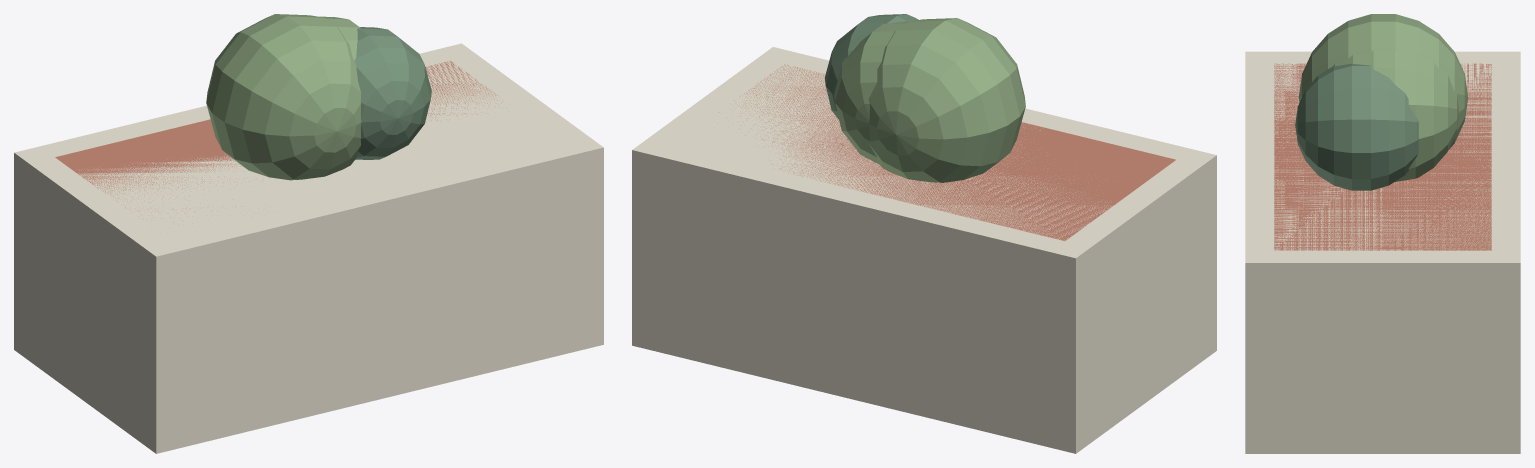
The model's file is mdl_urban_planter_urban_001.glb.
3 views of the same model, side by side, from view 1: azimuth 30°, elevation 25°; view 2: azimuth 150°, elevation 25°; view 3: azimuth 270°, elevation 25° (orthographic). The views are drawn at different scales.
Visible parts, largest first — view 1: m_crema, m_manigua_claro, m_tierra_roja, m_manigua; view 2: m_crema, m_manigua_claro, m_tierra_roja, m_manigua; view 3: m_crema, m_tierra_roja, m_manigua, m_manigua_claro.
Boxes of the visible parts, x1,y1,x2,y2 form: m_crema: (14, 43, 603, 453); m_manigua_claro: (206, 14, 361, 180); m_tierra_roja: (55, 61, 506, 218); m_manigua: (355, 27, 431, 159); m_crema: (632, 47, 1216, 453); m_manigua_claro: (834, 18, 1025, 182); m_tierra_roja: (719, 64, 1175, 240); m_manigua: (824, 14, 918, 119); m_crema: (1245, 51, 1520, 453); m_tierra_roja: (1274, 63, 1491, 250); m_manigua: (1295, 63, 1418, 190); m_manigua_claro: (1298, 14, 1468, 181).
Bounding box in the file's own units: 1.38 × 0.9753 × 0.7616.
